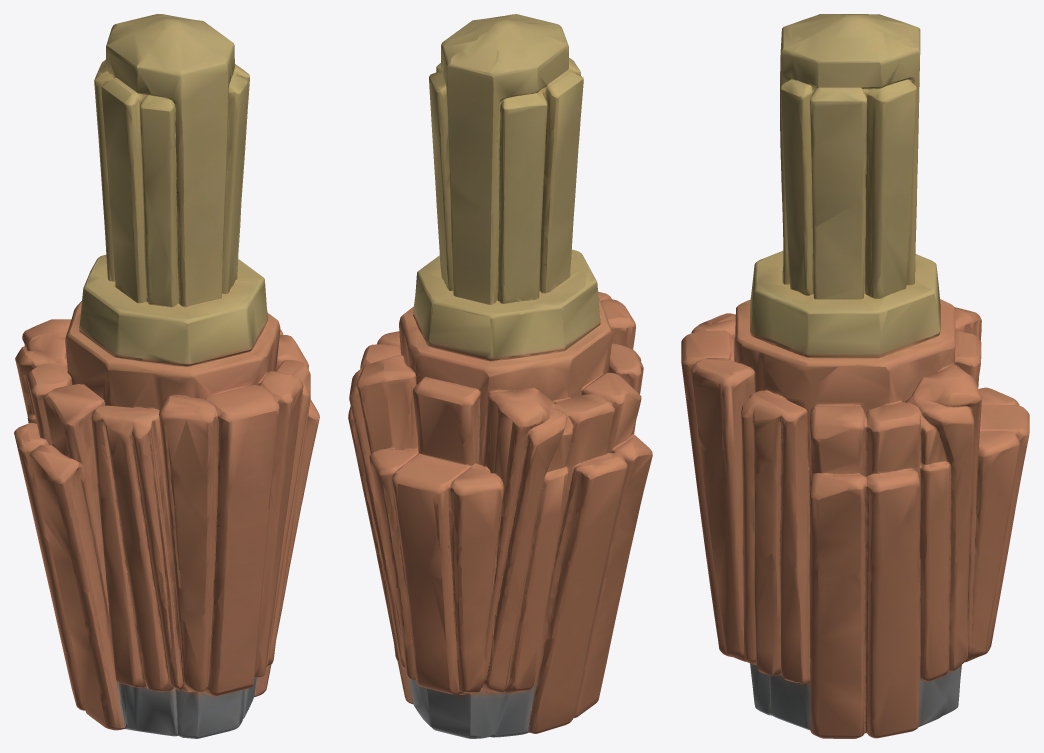
File: perfume-deco.glb
3 renders of one model, left to right at view 1: azimuth 30°, elevation 25°; view 2: azimuth 150°, elevation 25°; view 3: azimuth 270°, elevation 25°, orthographic.
Parts seen in each view (by area): view 1: model; view 2: model; view 3: model.
Part boxes in pixels (box(x1,y1,x2,y2)): model: box(14, 14, 319, 738); model: box(348, 14, 652, 738); model: box(681, 14, 1029, 738).
Bounding box in the file's own units: 0.8031 × 1.89 × 0.8738.
Materials: 1 (1 with a texture image).
